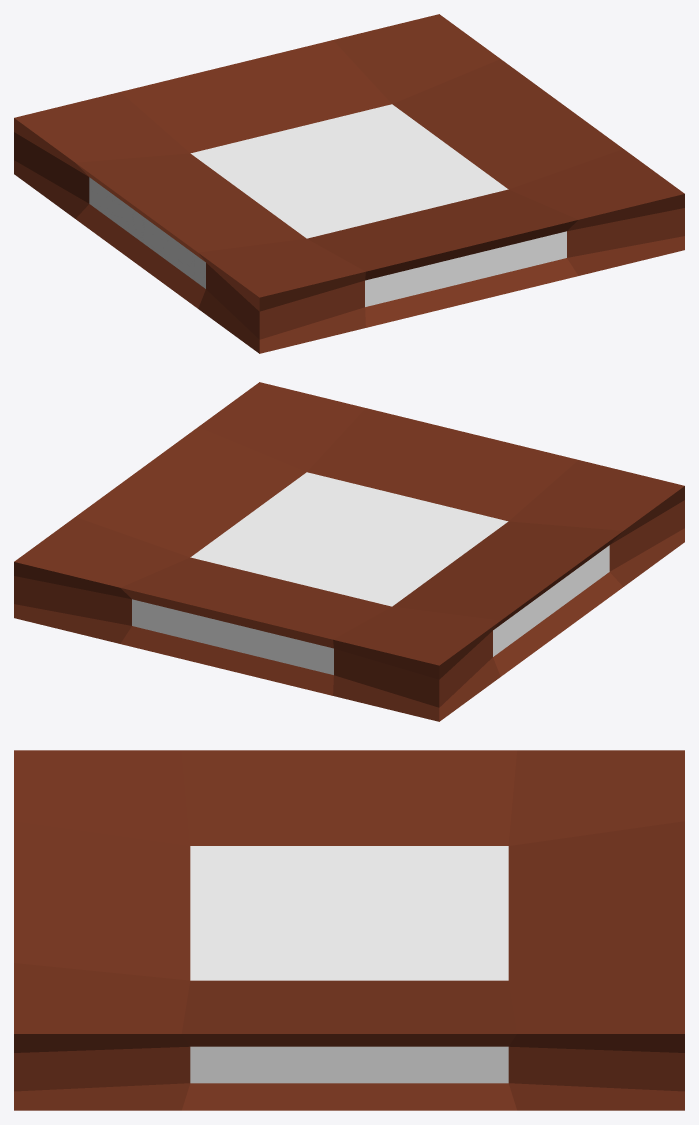
Rendered from jap01.fbx.
3 renders of one model, top to bottom at view 1: azimuth 30°, elevation 25°; view 2: azimuth 150°, elevation 25°; view 3: azimuth 270°, elevation 25°, orthographic. The views are drawn at different scales.
Parts seen in each view (by area): view 1: Cube; view 2: Cube; view 3: Cube.
Boxes of the visible parts, x1,y1,x2,y2 form: Cube: (14,14,684,353); Cube: (14,382,684,721); Cube: (14,750,684,1110).
Bounding box in the file's own units: 486 × 61.38 × 486.
